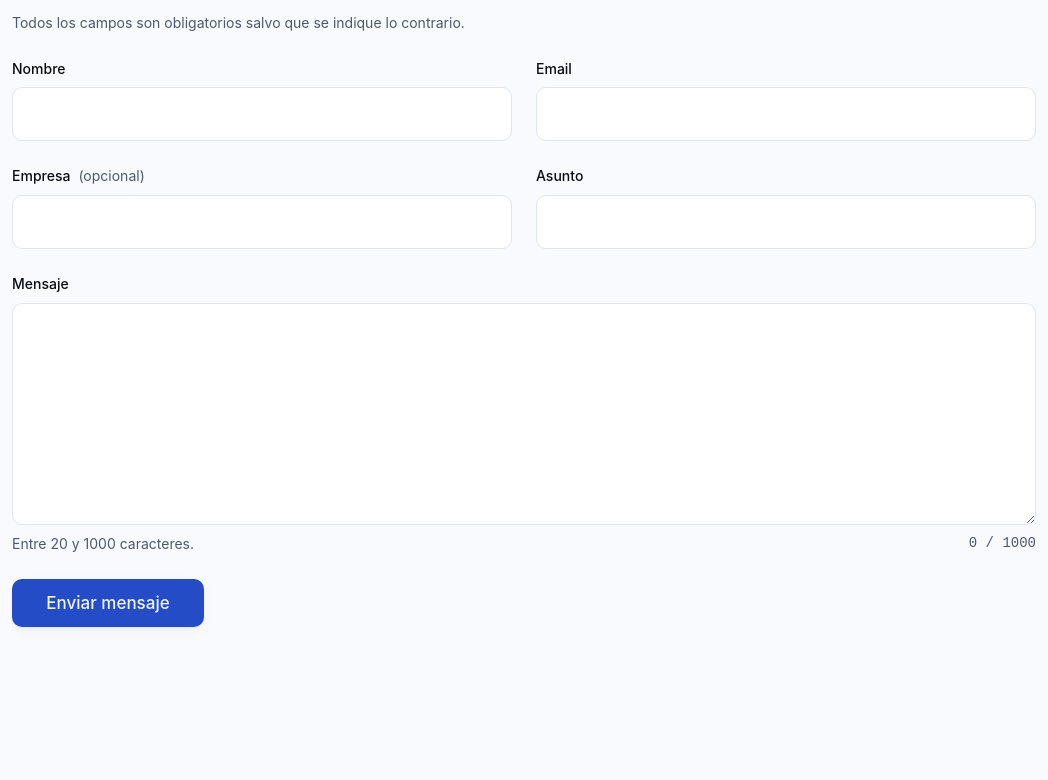
ContactForm › shows server-side field errors on the right field
The width and height of the screenshot is (1048, 780).
Type "  María   José  " into the field labelled "Nombre". click: (262, 114)
box: [12,87,512,141]
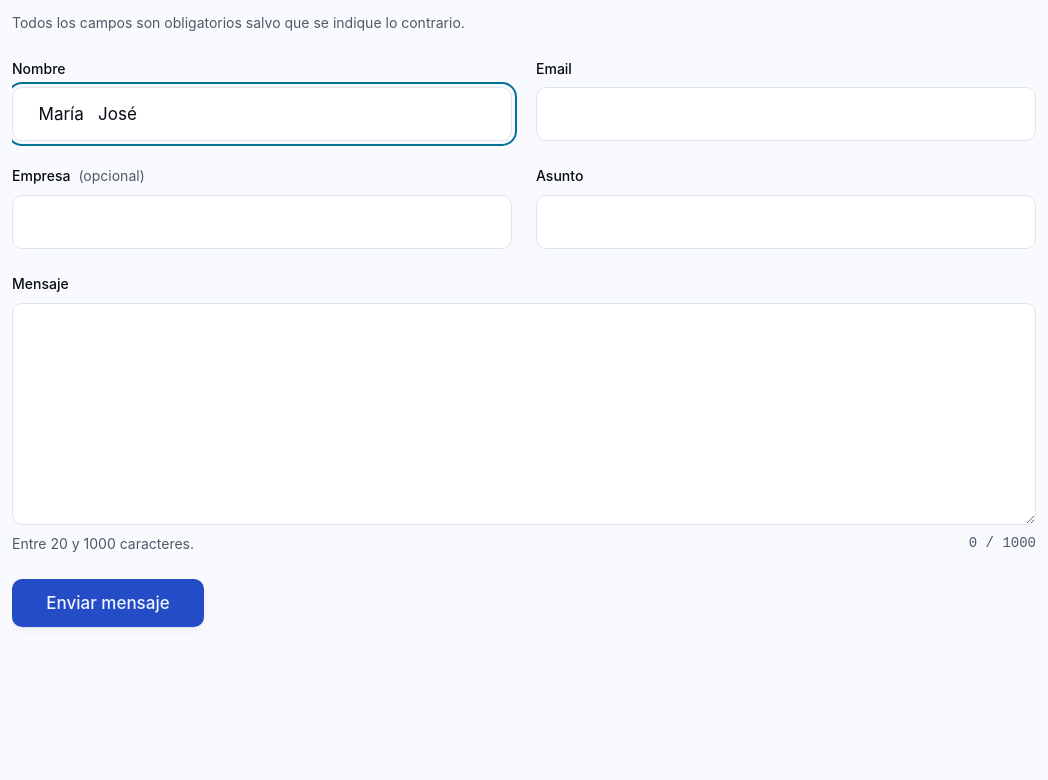
Type "maria@example.com" into the field labelled "Email". click: (786, 114)
box: [536,87,1036,141]
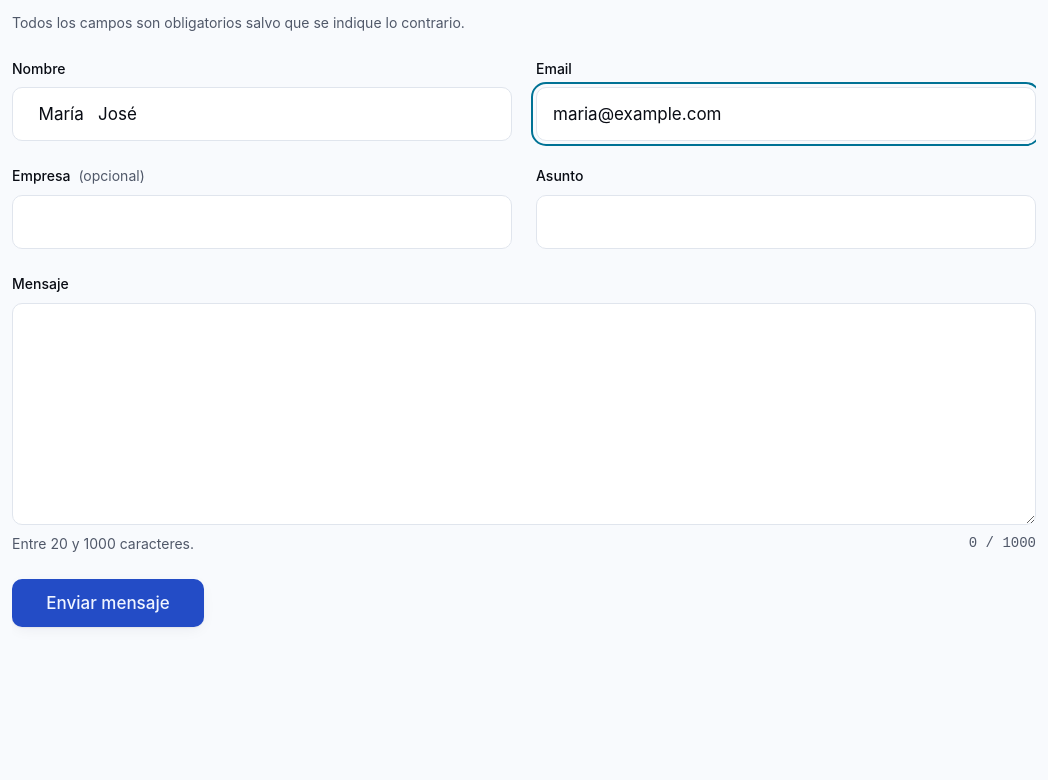
Type "Posición frontend" into the field labelled "Asunto". click: (786, 222)
box: [536,195,1036,249]
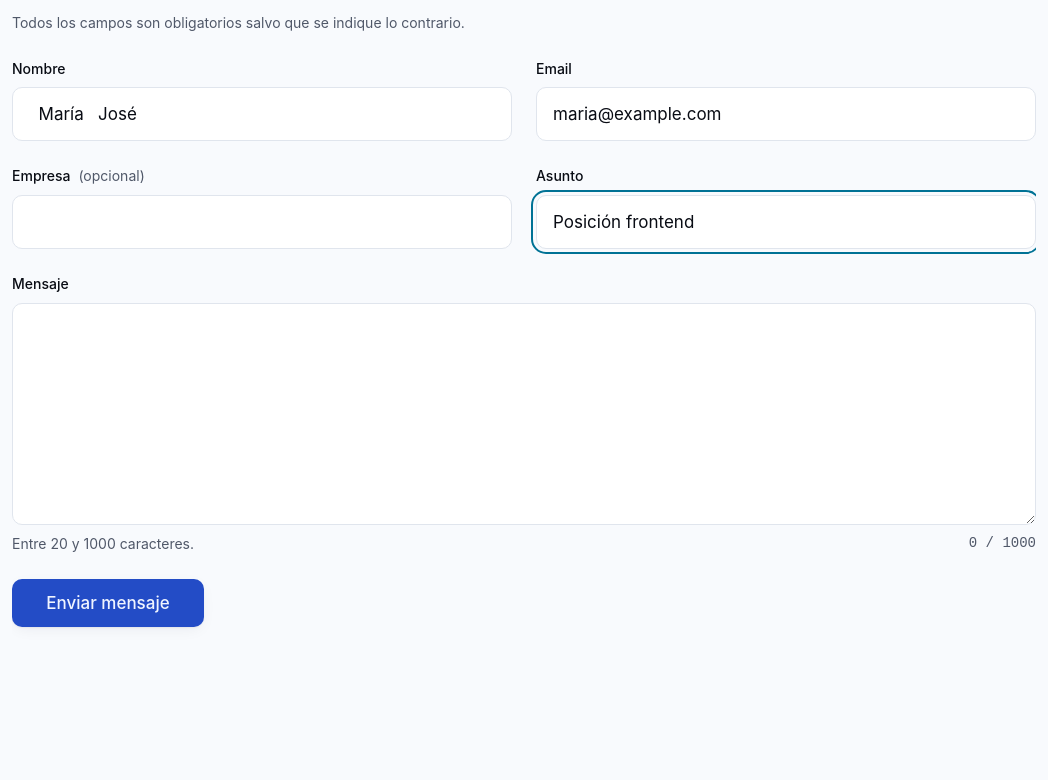
Type "Hola Luciano, me gustaría conversar." into the text box labelled "Mensaje". click: (524, 414)
box: [12,303,1036,525]
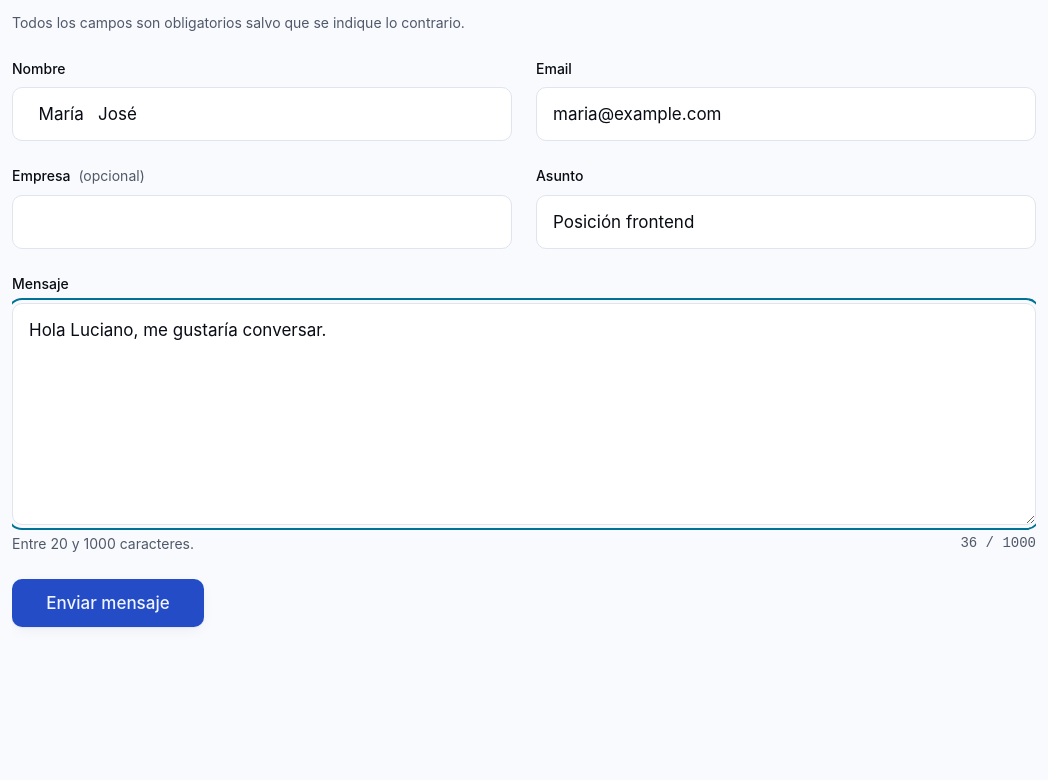
Click the button "Enviar mensaje". click: (108, 603)
box: [12,579,204,627]
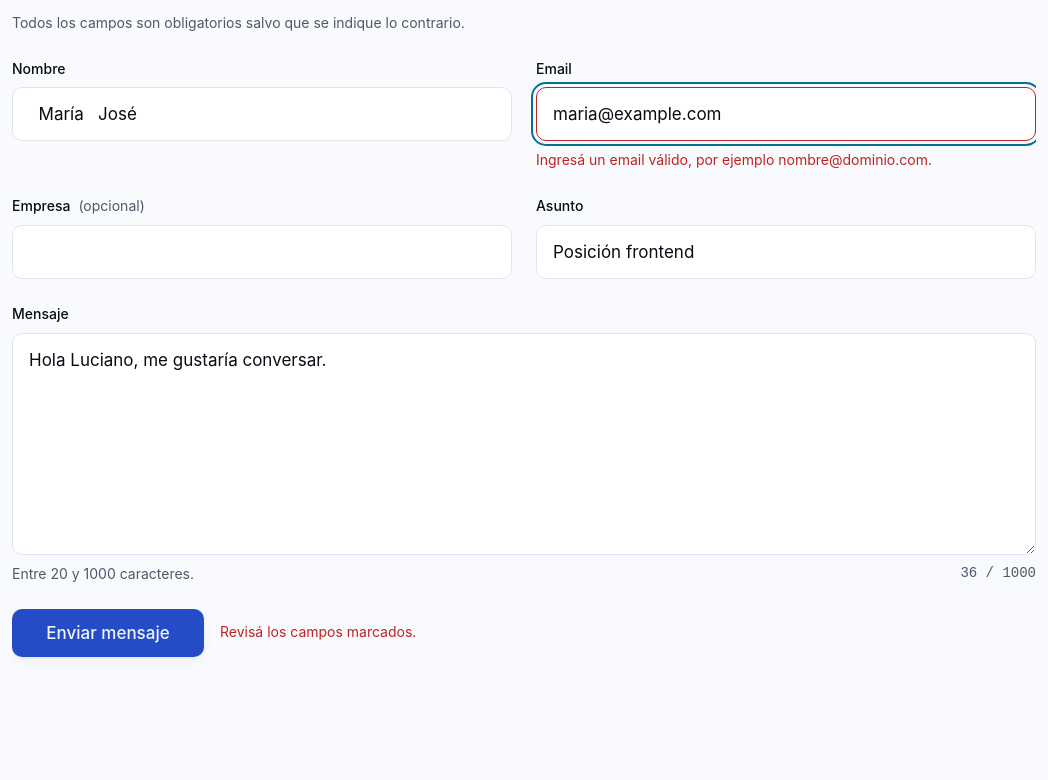
Check: the text "Ingresá un email válido, por ejemplo nombre@dominio.com." is shown, box [536,151,932,168]
